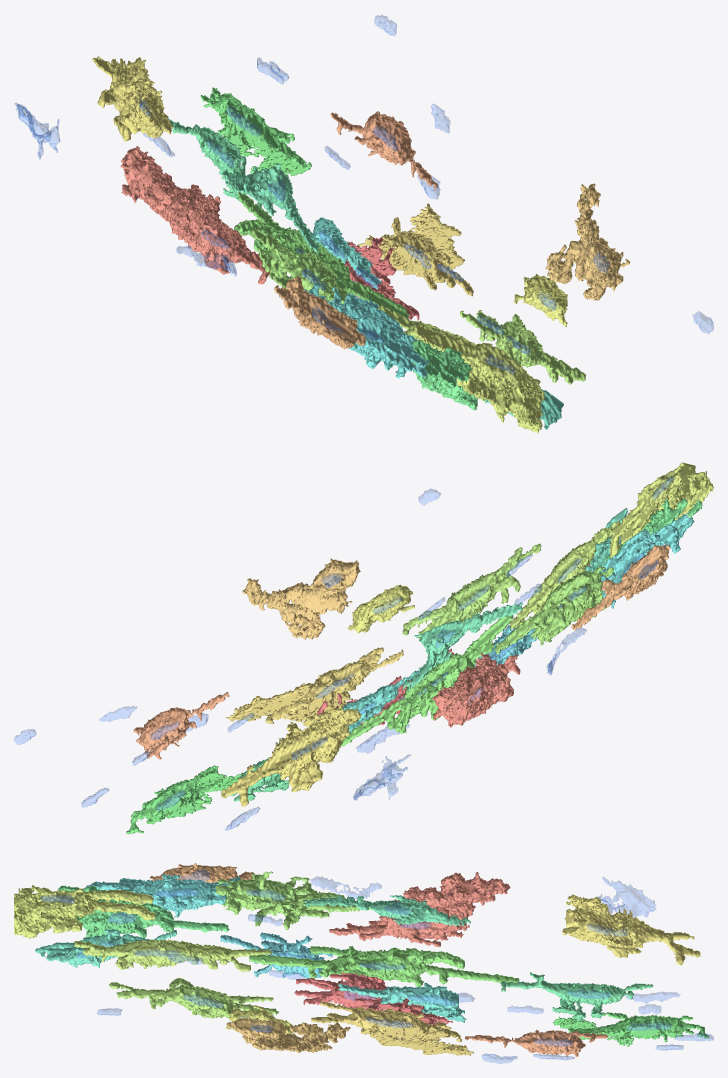
3 renders of one model, top to bottom at view 1: azimuth 30°, elevation 25°; view 2: azimuth 150°, elevation 25°; view 3: azimuth 270°, elevation 25°, orthographic. The views are drawn at different scales.
Visible parts, largest first — view 1: osteocyte_87, osteocyte_160, osteocyte_23, osteocyte_74, osteocyte_124, osteocyte_21, osteocyte_134, osteocyte_61, osteocyte_37, osteocyte_140, osteocyte_146, osteocyte_38 (+7 smaller); view 2: osteocyte_124, osteocyte_74, osteocyte_23, osteocyte_61, osteocyte_87, osteocyte_140, osteocyte_160, osteocyte_37, osteocyte_21, osteocyte_150, osteocyte_146, osteocyte_82 (+9 smaller); view 3: osteocyte_61, osteocyte_87, osteocyte_160, osteocyte_124, osteocyte_140, osteocyte_23, osteocyte_82, osteocyte_37, osteocyte_74, osteocyte_134, osteocyte_21, osteocyte_18 (+14 smaller).
Boxes of the visible parts, x1,y1,x2,y2 form: osteocyte_87: (120,146,274,284); osteocyte_160: (414,323,544,433); osteocyte_23: (358,203,473,296); osteocyte_74: (545,183,629,300); osteocyte_124: (92,56,172,141); osteocyte_21: (200,87,311,176); osteocyte_134: (304,282,427,378); osteocyte_61: (234,192,409,319); osteocyte_37: (460,310,586,384); osteocyte_140: (251,228,347,303); osteocyte_146: (274,276,366,349); osteocyte_38: (330,111,437,189); osteocyte_124: (221,703,361,806); osteocyte_74: (242,558,360,639); osteocyte_23: (226,647,403,726); osteocyte_61: (340,615,513,746); osteocyte_87: (432,653,520,727); osteocyte_140: (495,566,613,654); osteocyte_160: (609,462,713,557); osteocyte_37: (402,543,541,639); osteocyte_21: (126,765,242,834); osteocyte_150: (403,602,522,690); osteocyte_146: (571,544,670,630); osteocyte_82: (509,520,620,628); osteocyte_61: (249,945,519,987); osteocyte_87: (329,872,510,946); osteocyte_160: (14,885,155,938); osteocyte_124: (562,894,700,965); osteocyte_140: (215,871,371,930); osteocyte_23: (311,1001,473,1055); osteocyte_82: (74,939,271,972); osteocyte_37: (109,978,278,1018); osteocyte_74: (226,1017,350,1053); osteocyte_134: (86,874,240,917); osteocyte_21: (553,1012,709,1046); osteocyte_18: (294,972,452,1024).
Bounding box in the file's own units: 110 × 29.37 × 223.
